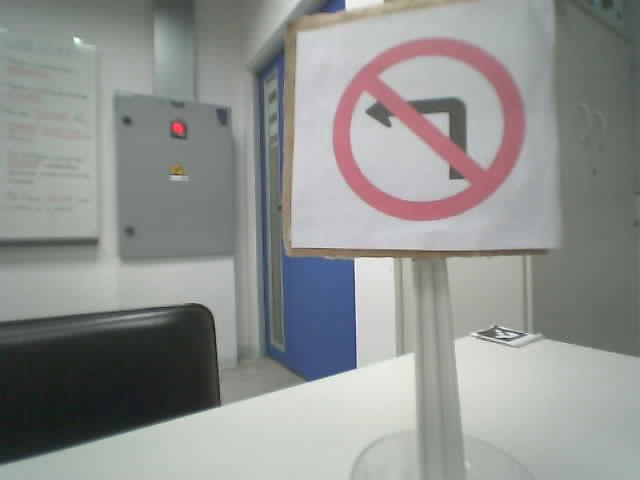R-4a_proibido-esquerda: (332, 37, 525, 221)
